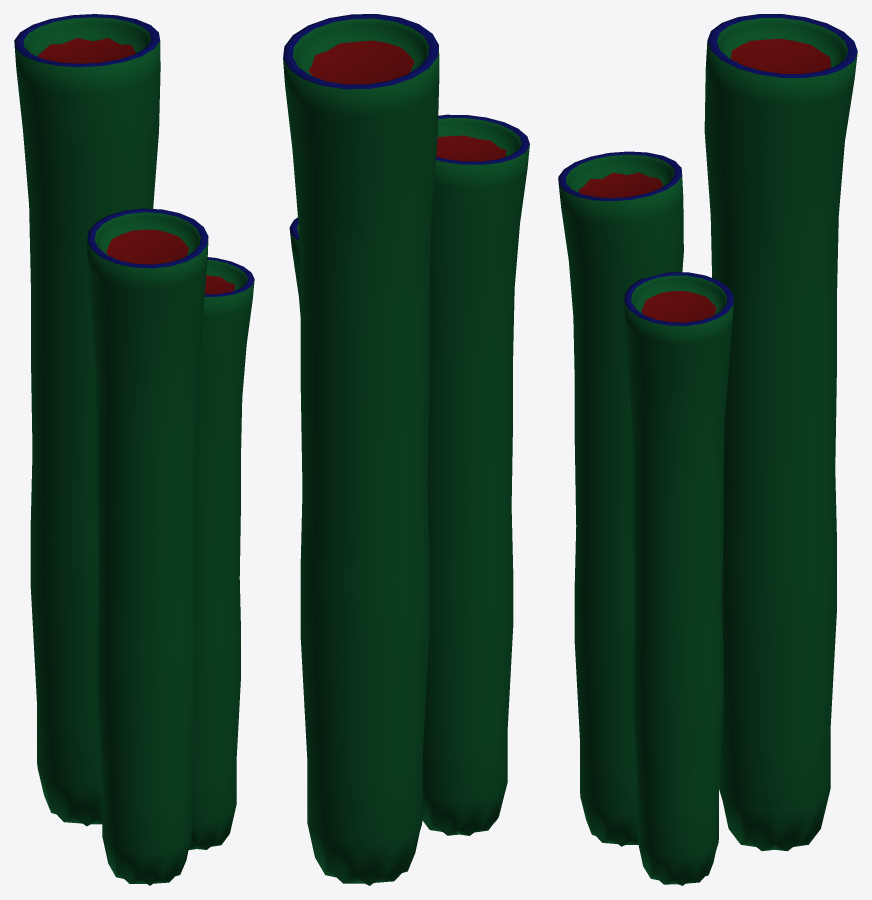
The model's file is coral2.FBX.
The picture shows the model from 3 angles, left to right: view 1: azimuth 30°, elevation 25°; view 2: azimuth 150°, elevation 25°; view 3: azimuth 270°, elevation 25°; orthographic projection. The views are drawn at different scales.
Visible parts, largest first — view 1: Cylinder004, Cylinder002, Cylinder003; view 2: Cylinder002, Cylinder004, Cylinder003; view 3: Cylinder002, Cylinder003, Cylinder004.
Boxes of the visible parts, bbox=[...] form: Cylinder004: bbox=[87, 208, 208, 885]; Cylinder002: bbox=[14, 14, 160, 826]; Cylinder003: bbox=[188, 257, 254, 849]; Cylinder002: bbox=[283, 14, 439, 885]; Cylinder004: bbox=[422, 114, 529, 835]; Cylinder003: bbox=[289, 217, 300, 315]; Cylinder002: bbox=[704, 14, 857, 851]; Cylinder003: bbox=[624, 272, 733, 885]; Cylinder004: bbox=[558, 151, 683, 846].
Bounding box in the file's own units: 2.09 × 8.79 × 2.93.
